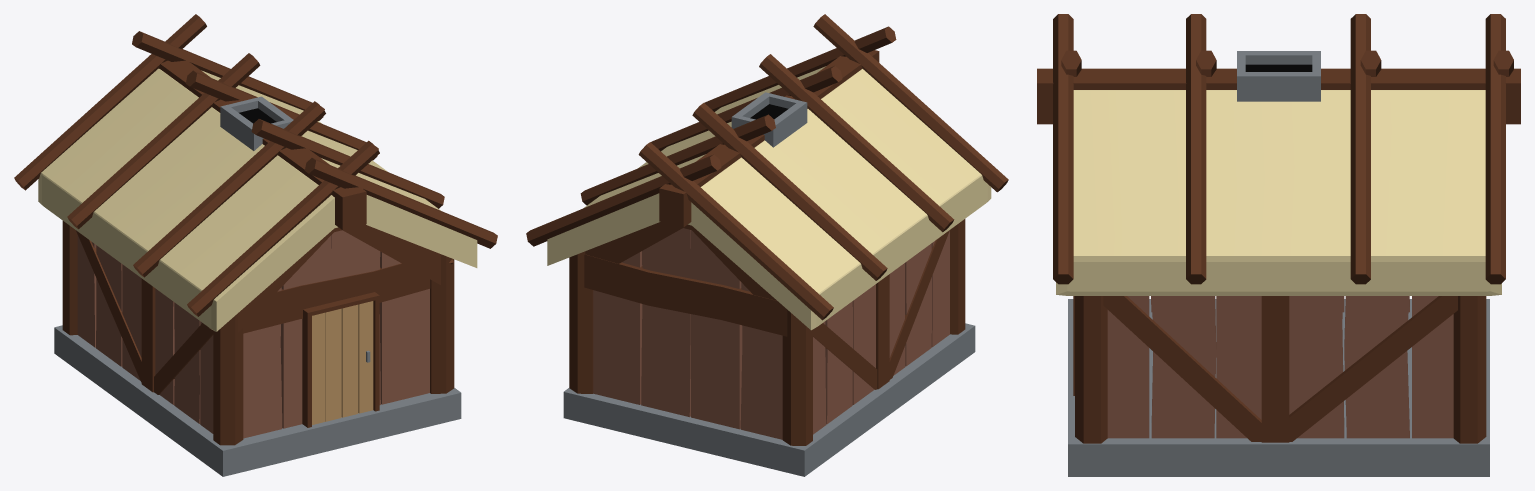
Rendered from House_3.fbx.
The picture shows the model from 3 angles, left to right: view 1: azimuth 30°, elevation 25°; view 2: azimuth 150°, elevation 25°; view 3: azimuth 270°, elevation 25°; orthographic projection. The views are drawn at different scales.
Parts seen in each view (by area): view 1: building_02; view 2: building_02; view 3: building_02.
Part boxes in pixels (bbox=[...]): building_02: bbox=[14, 14, 497, 476]; building_02: bbox=[526, 14, 1008, 476]; building_02: bbox=[1037, 14, 1520, 476].
Size of the model in its own units: 337 by 316 by 372.
